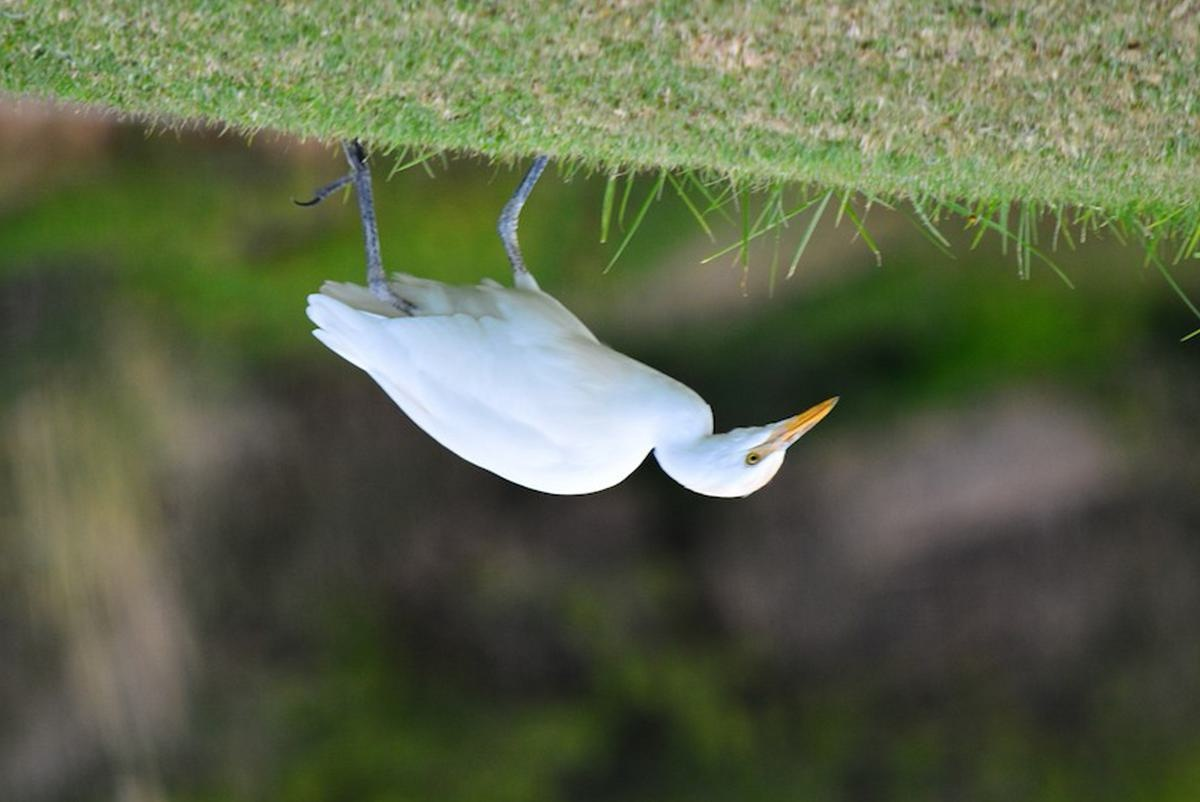egret: (259, 149, 891, 523)
